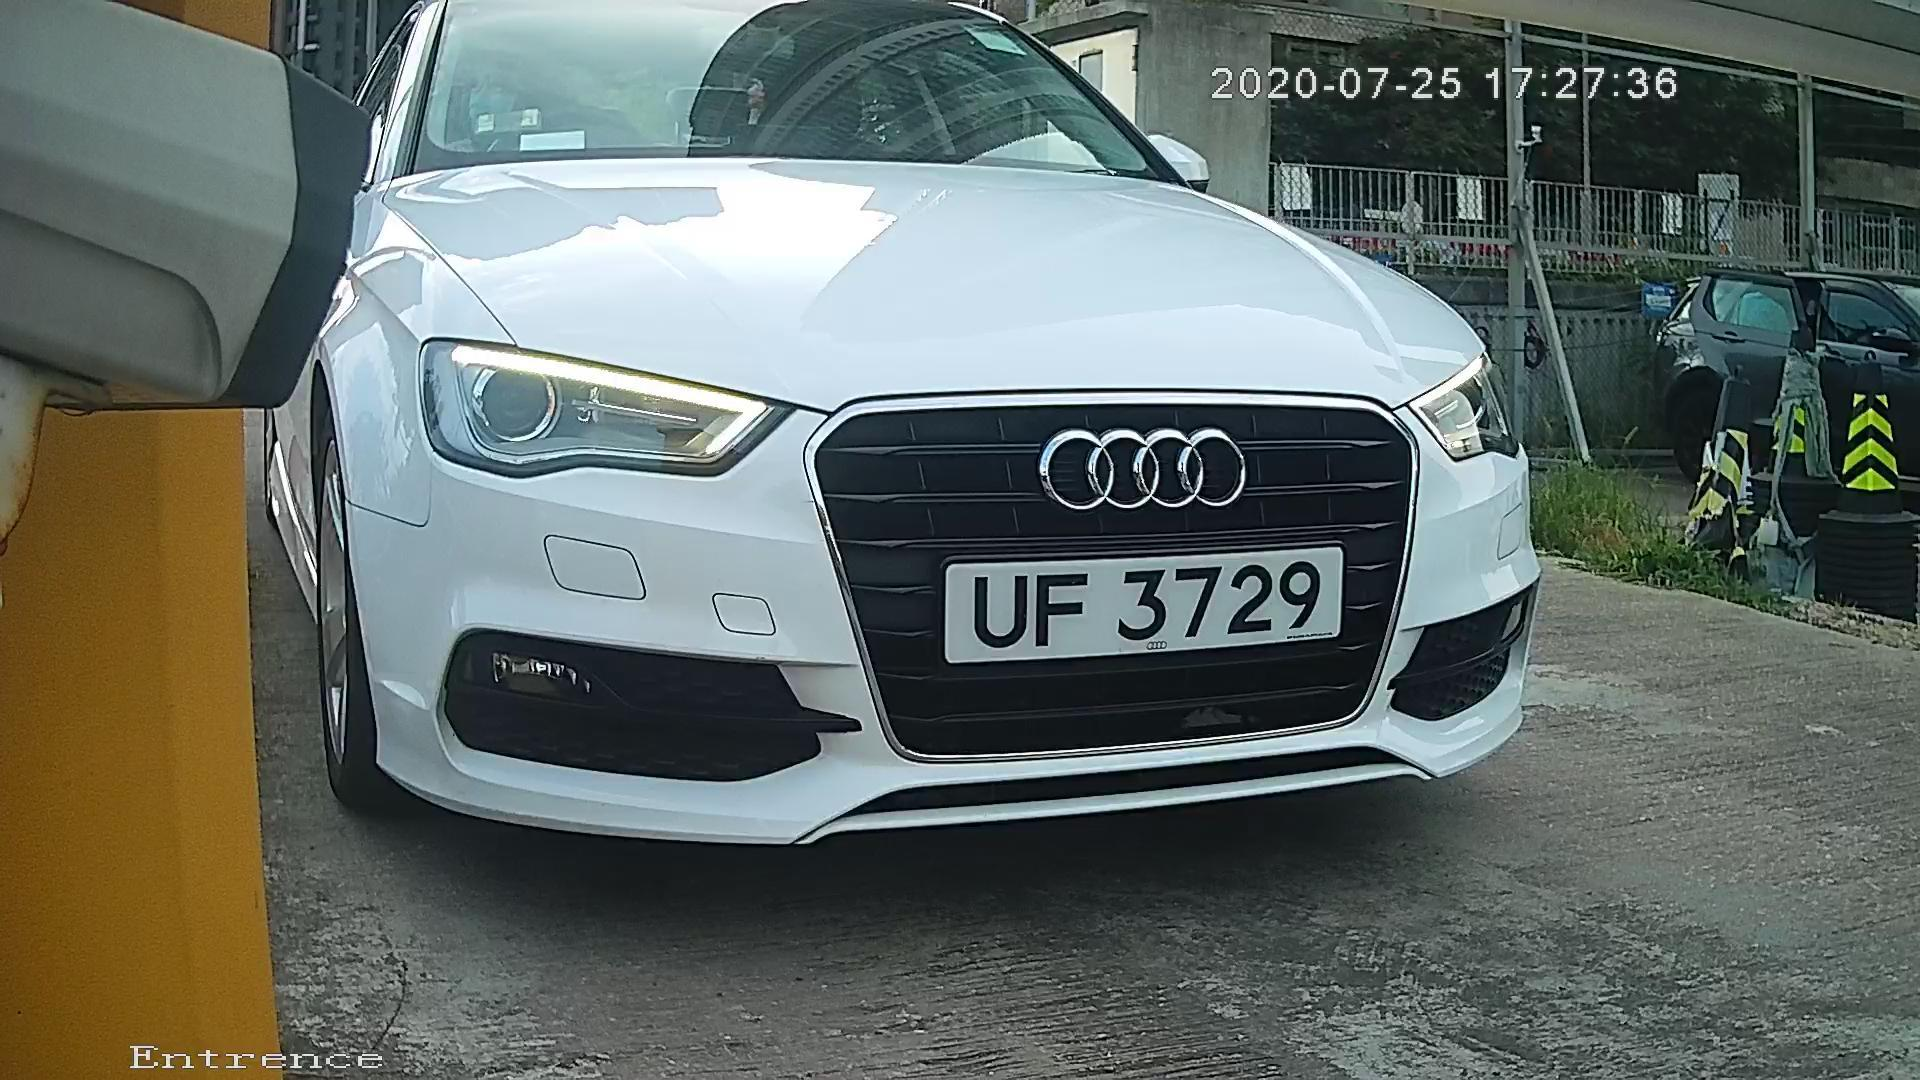privatecar: (276, 5, 1586, 873)
